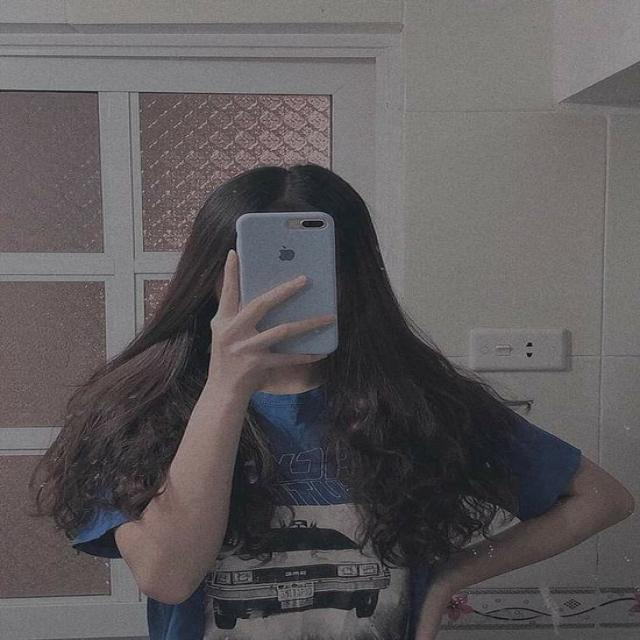phone: (237, 212, 338, 354)
